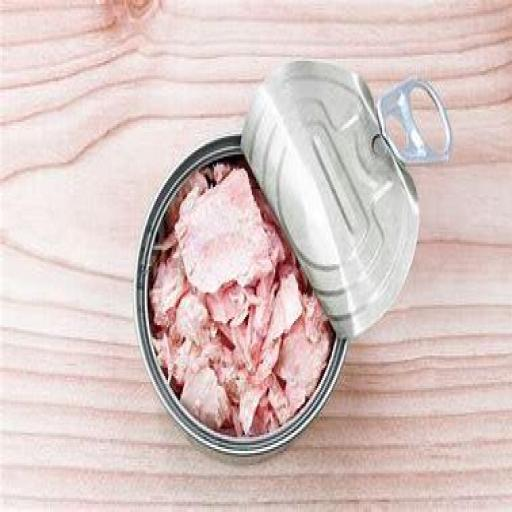can: (131, 57, 421, 468)
pop tab: (377, 73, 455, 164)
